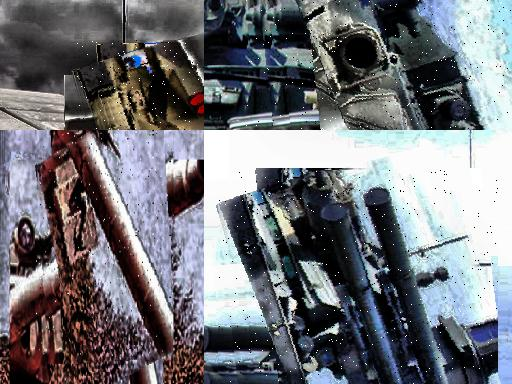tanks: (219, 172, 499, 384), (37, 131, 174, 359), (294, 1, 476, 131), (75, 41, 205, 131), (109, 378, 131, 384)
